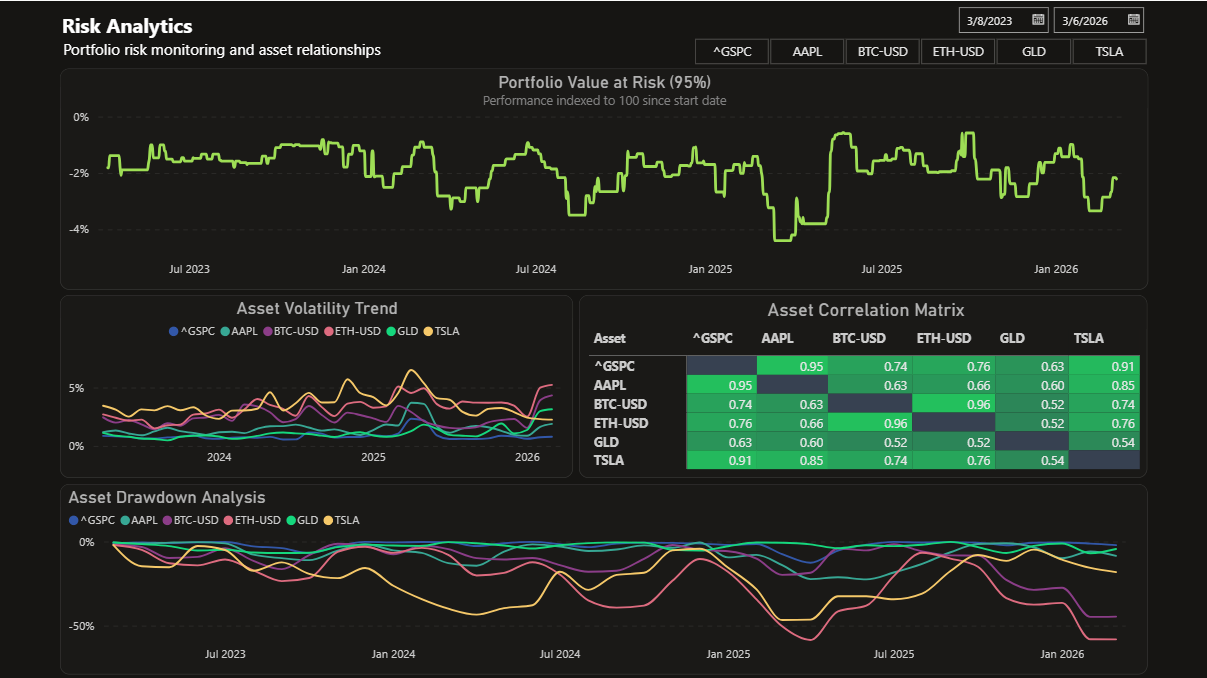

Layout of this report page (visuals, bound fields, positions):
{"tool":"powerbi","page":{"name":"Risk Analytics","canvas":[1280,720],"ordinal":1},"visuals":[{"type":"textbox","box":[61.1,4.2,323.9,55.2],"z":0},{"type":"textbox","box":[61.3,34.3,378.6,55.7],"z":1000},{"type":"lineChart","title":"Portfolio Value at Risk (95%)","fields":{"Y":["Avg(Fact Portfolio Risk.portfolio_var_95_30d)"],"Category":["Dim Date.Date"]},"box":[62.9,71.4,1153.7,234.5],"z":2000},{"type":"pivotTable","title":"Asset Correlation Matrix","fields":{"Rows":["Fact Correlations.ticker_1"],"Columns":["Fact Correlations.ticker_2"],"Values":["Max(Fact Correlations.rolling_corr_30d)"]},"box":[614,311.8,602.8,194.1],"z":3000},{"type":"slicer","fields":{"Values":["Dim Date.Date"]},"box":[1004.2,1.7,246.4,45.9],"z":4000},{"type":"slicer","fields":{"Values":["Dim Asset.ticker"]},"box":[710.2,37.4,528.4,35.7],"z":5000},{"type":"lineChart","title":"Asset Volatility Trend","fields":{"Category":["Dim Date.YearMonth"],"Series":["Dim Asset.ticker"],"Y":["Fact Asset Risk.Volatility 30d %"]},"box":[63.6,311.8,544,194.1],"z":6000},{"type":"lineChart","title":"Asset Drawdown Analysis","fields":{"Category":["Dim Date.YearMonth"],"Series":["Dim Asset.ticker"],"Y":["Fact Asset Risk.drawdown %"]},"box":[63.6,512.2,1153.2,202],"z":7000}]}

Visuals, with their boxes in screenshot pixels (x1, y1, x2, y2), scaled from the page's 1280x720 canvas onto the 1207x678 screenshot:
textbox: <box>58,4,363,56</box>
textbox: <box>58,32,415,85</box>
"Portfolio Value at Risk (95%)" lineChart: <box>59,67,1147,288</box>
"Asset Correlation Matrix" pivotTable: <box>579,294,1147,476</box>
slicer - Dim Date.Date: <box>947,2,1179,45</box>
slicer - Dim Asset.ticker: <box>670,35,1168,69</box>
"Asset Volatility Trend" lineChart: <box>60,294,573,476</box>
"Asset Drawdown Analysis" lineChart: <box>60,482,1147,673</box>
